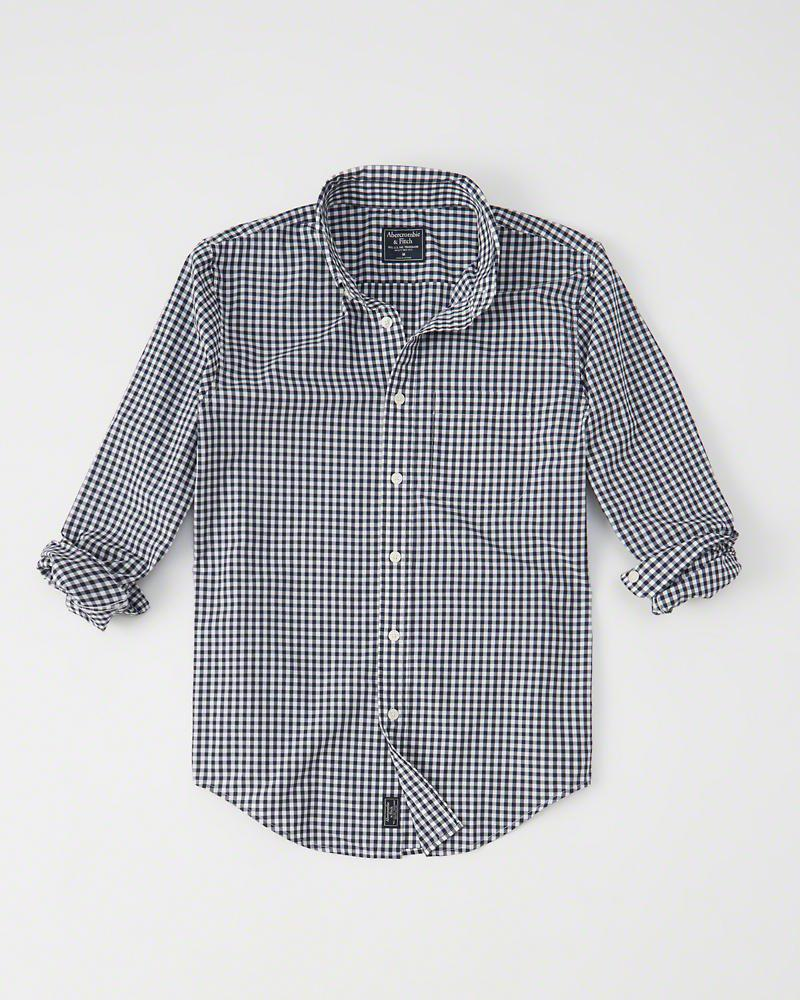teeshirt: (35, 165, 744, 857)
